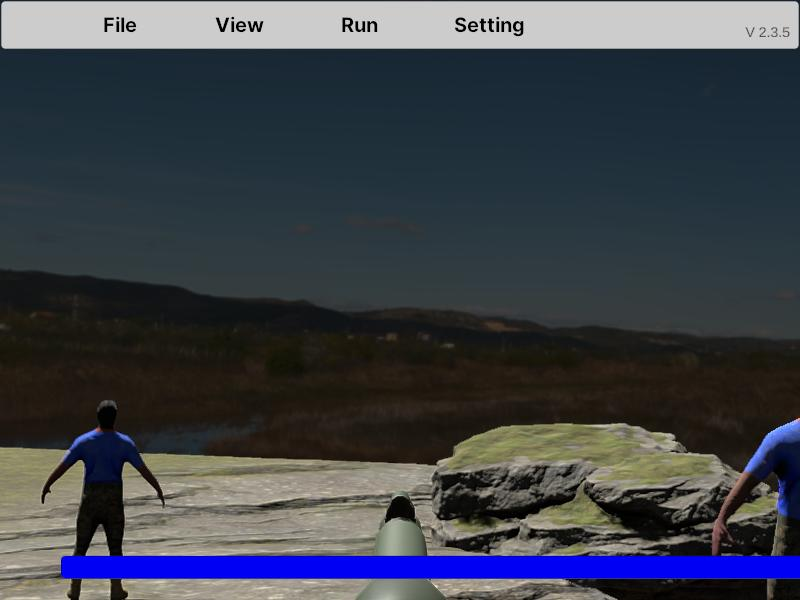Human: (40, 397, 165, 598), (709, 351, 800, 600)
